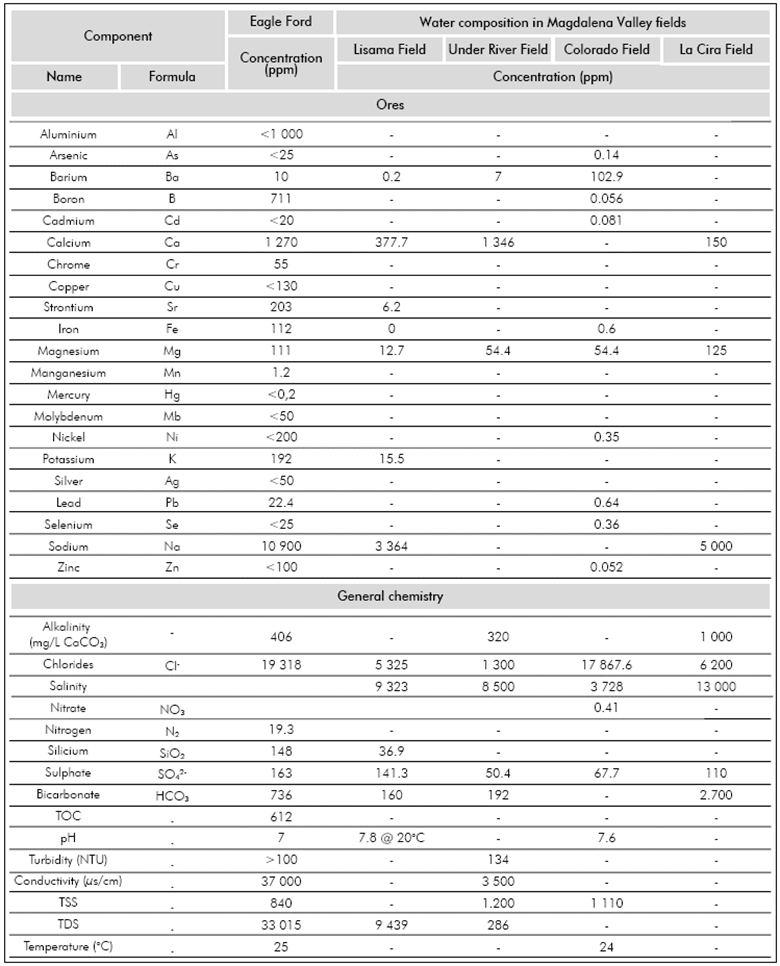fracking table: (1, 1, 780, 581), (3, 583, 780, 962)
